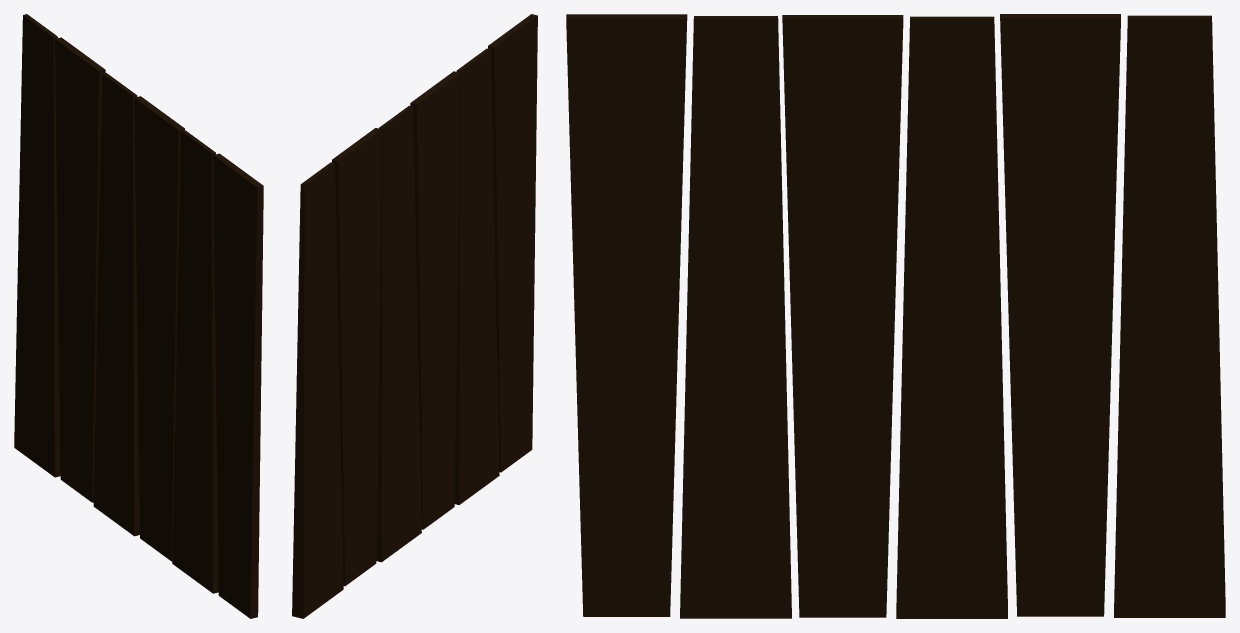
Rendered from wall.fbx.
3 views of the same model, side by side, from view 1: azimuth 30°, elevation 25°; view 2: azimuth 150°, elevation 25°; view 3: azimuth 270°, elevation 25° (orthographic). The views are drawn at different scales.
Parts seen in each view (by area): view 1: Wall; view 2: Wall; view 3: Wall.
Boxes of the visible parts, <box> form: Wall: <box>14,14,263,618</box>; Wall: <box>292,14,537,618</box>; Wall: <box>566,14,1225,618</box>.
Bounding box in the file's own units: 1200 × 33.5 × 1202.
